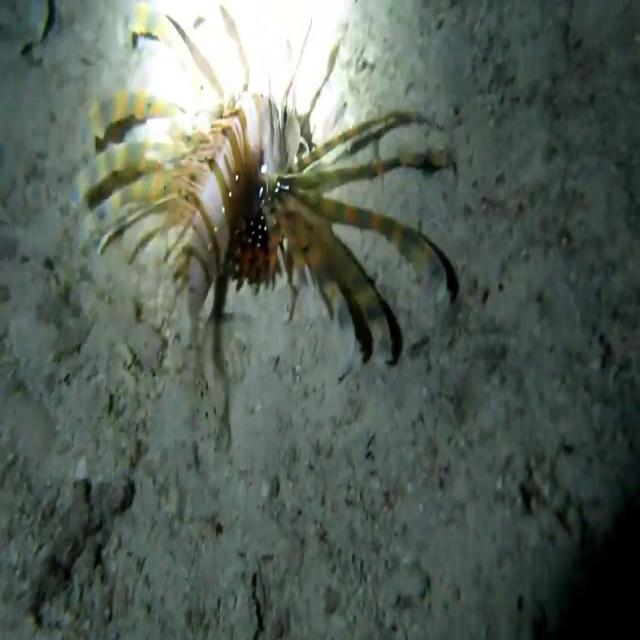Aslan Baligi: (77, 2, 461, 457)
